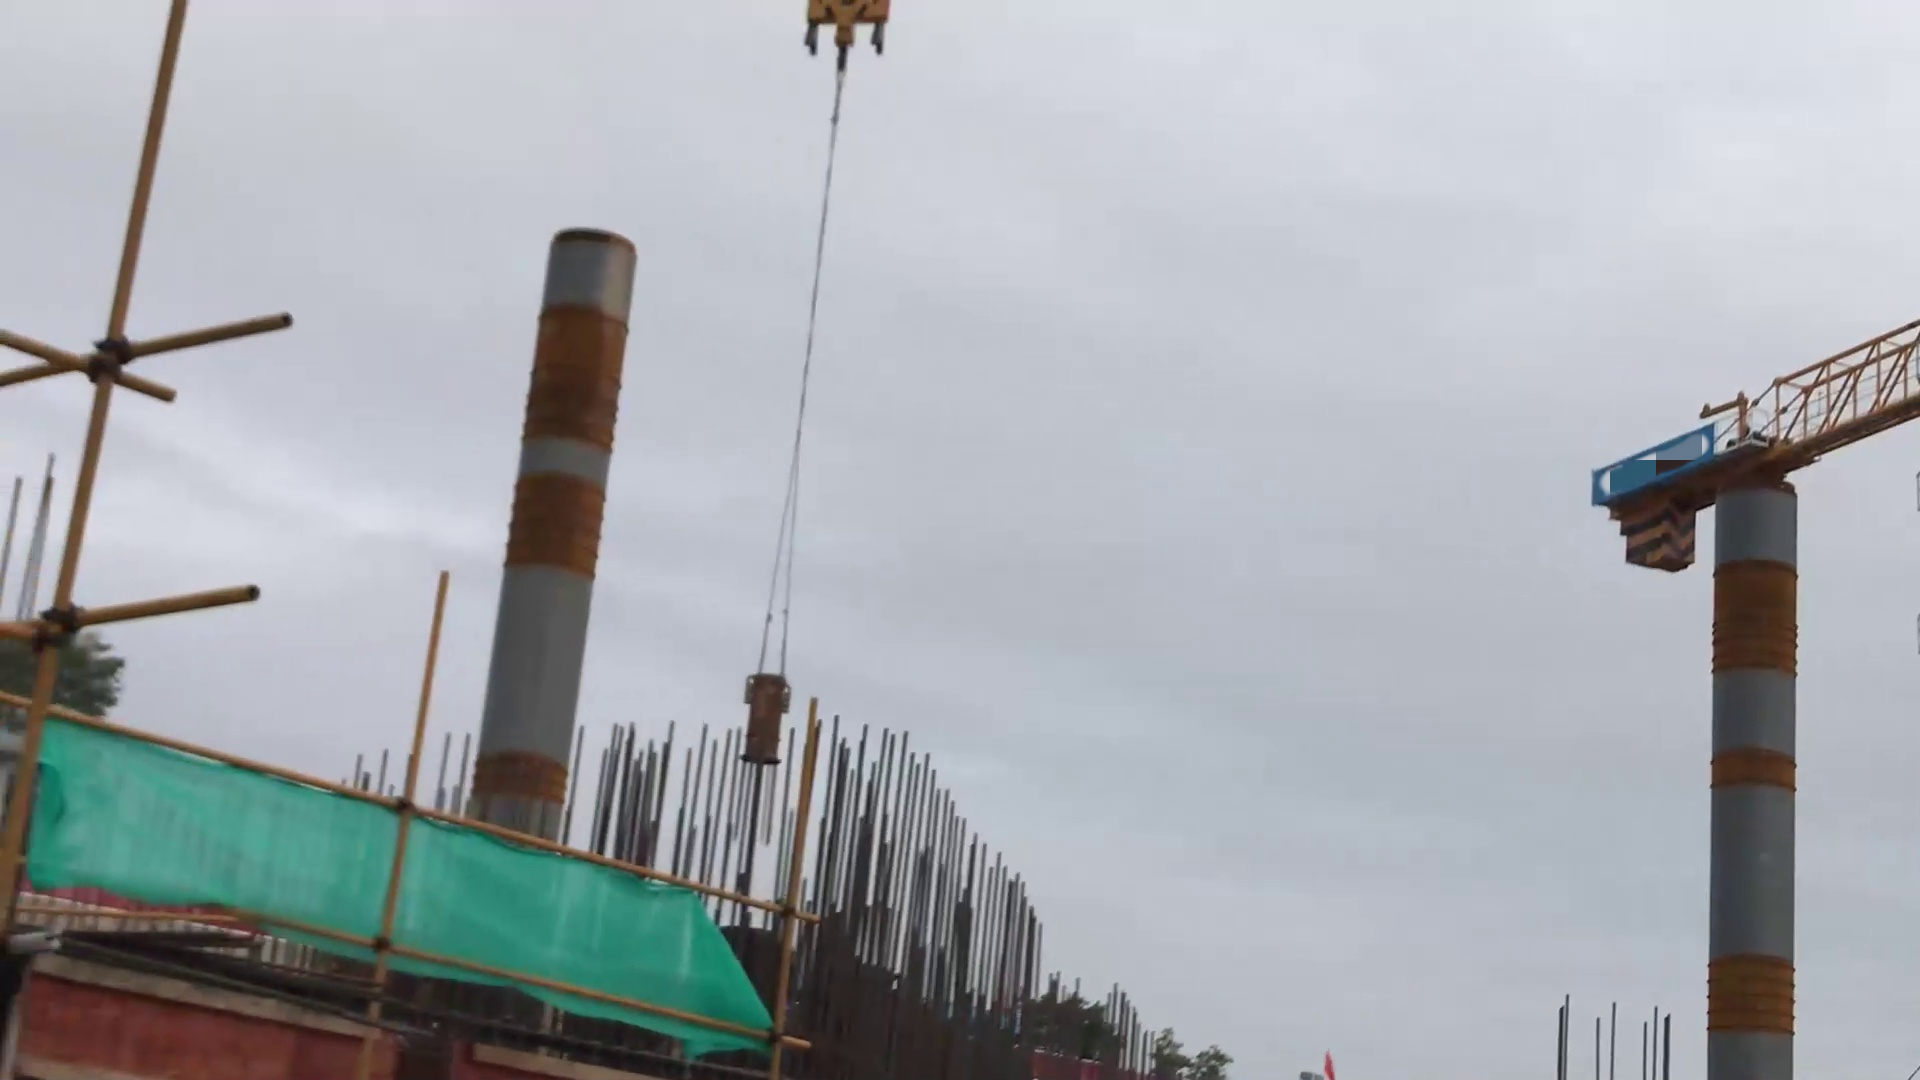hook: (799, 4, 906, 63)
